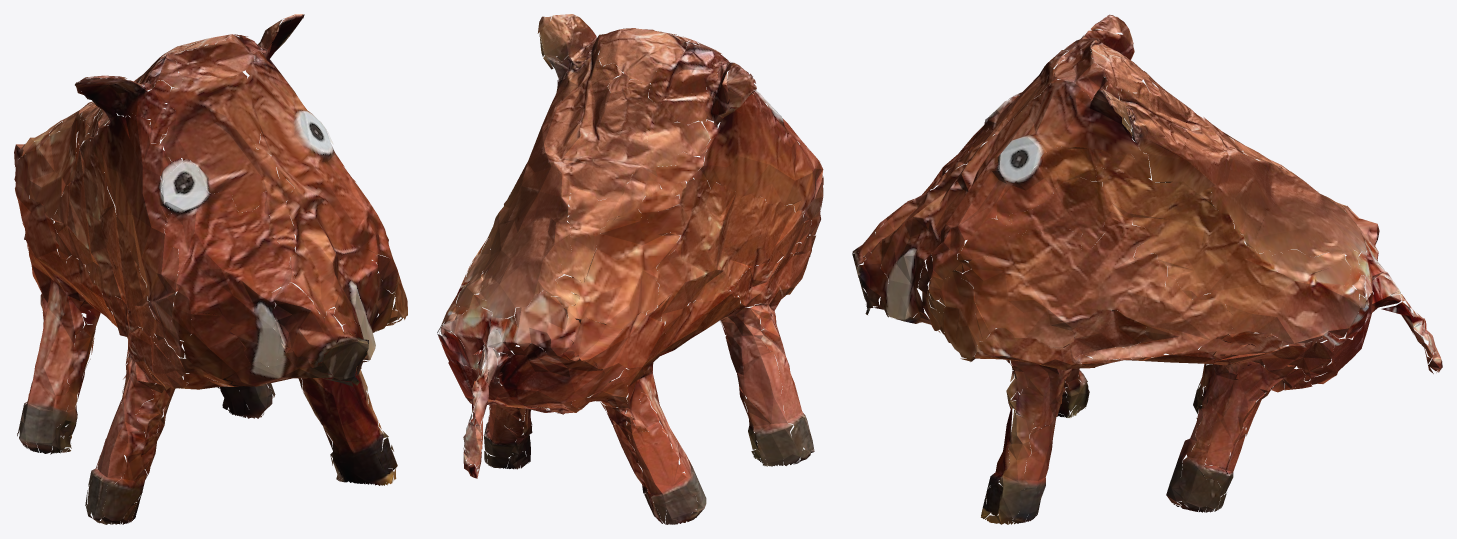
File: inoshi1-min2.gltf
3 renders of one model, left to right at view 1: azimuth 30°, elevation 25°; view 2: azimuth 150°, elevation 25°; view 3: azimuth 270°, elevation 25°, orthographic. The views are drawn at different scales.
Parts seen in each view (by area): view 1: mesh; view 2: mesh; view 3: mesh.
Part boxes in pixels (x1,y1,x2,y2): mesh: (14, 14, 407, 524); mesh: (437, 14, 823, 524); mesh: (852, 14, 1442, 524).
Bounding box in the file's own units: 0.2825 × 0.4139 × 0.541.
Materials: 1 (1 with a texture image).
